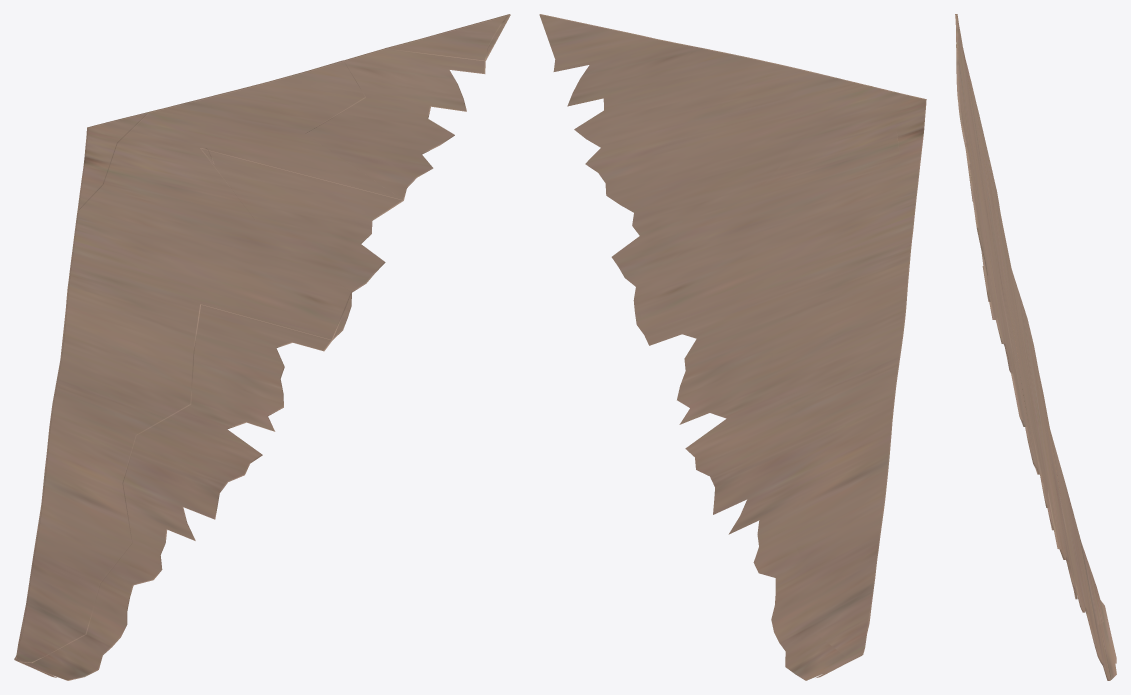
3 renders of one model, left to right at view 1: azimuth 30°, elevation 25°; view 2: azimuth 150°, elevation 25°; view 3: azimuth 270°, elevation 25°, orthographic. The views are drawn at different scales.
Bounding box in the file's own units: 20.2 × 27.83 × 6.47.
Materials: 1 (1 with a texture image).
